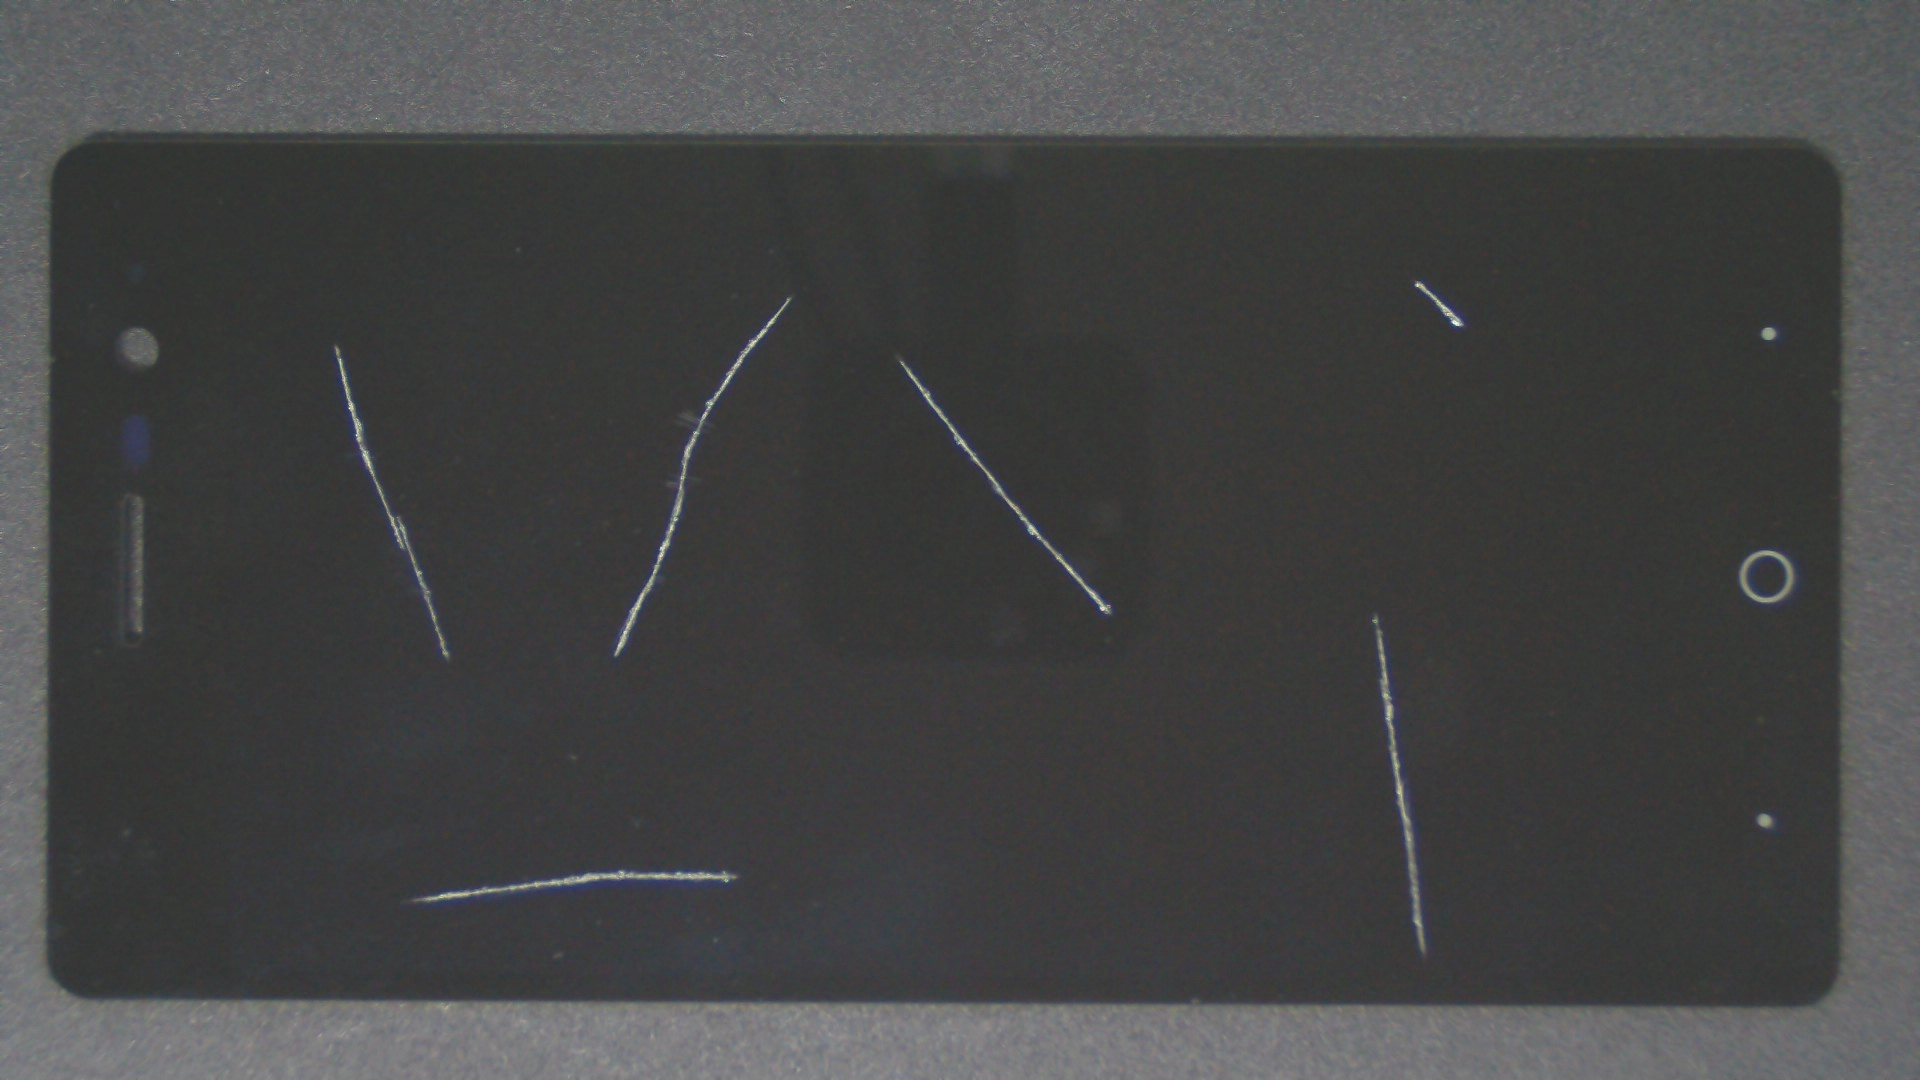oil: (687, 305, 1920, 920), (310, 434, 927, 1080), (708, 140, 1920, 421), (450, 177, 1349, 539), (393, 148, 1179, 444), (167, 171, 502, 516)
